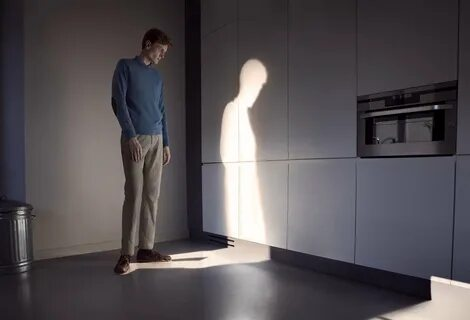awake: (110, 27, 175, 276)
